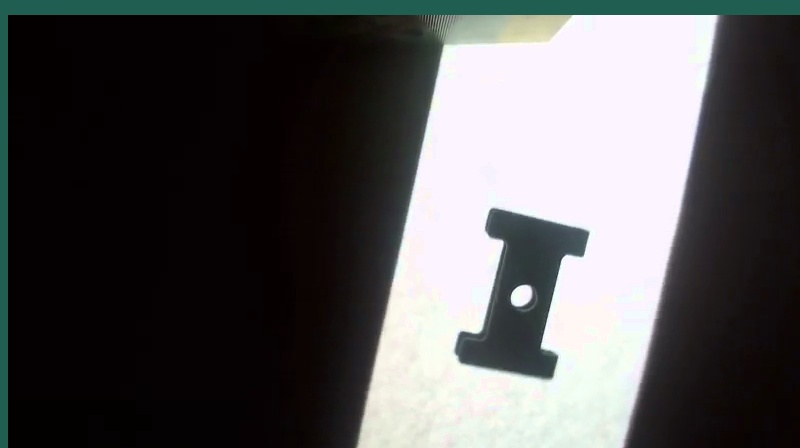O002: (451, 203, 592, 380)
